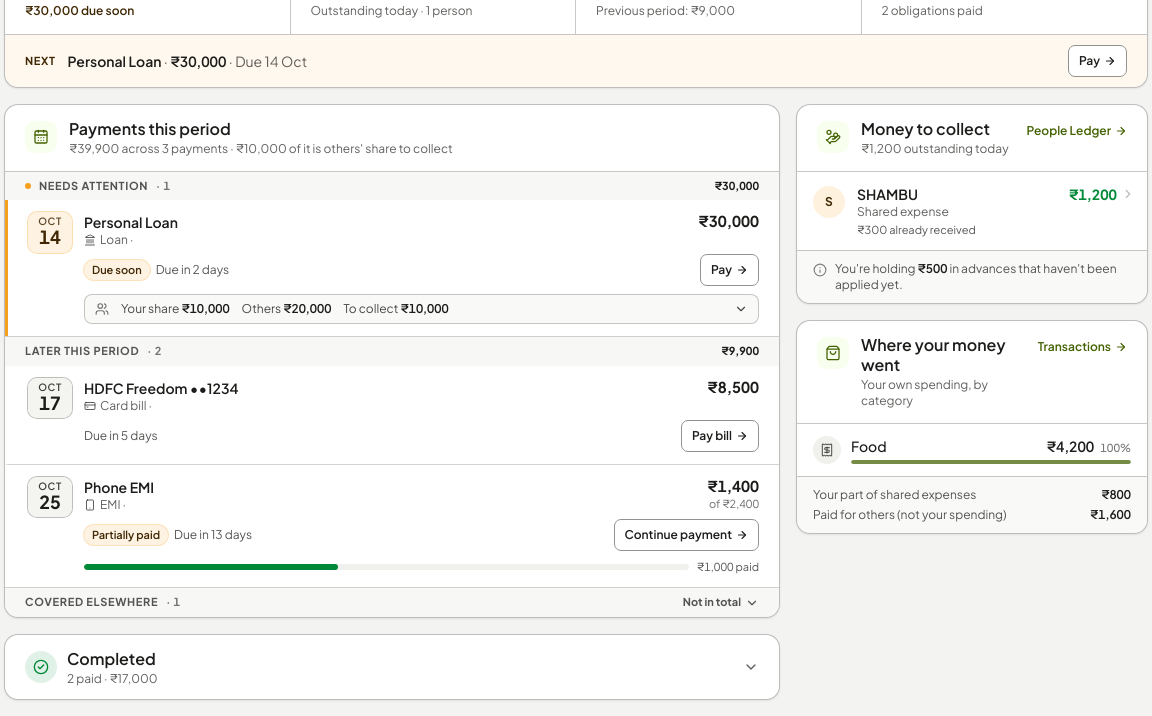
Test: MyMoneyWorkspace › groups payments by urgency and keeps items outside the total collapsed
The width and height of the screenshot is (1152, 716).
(page scrolled)
Expected: the heading "Needs attention · 1 ₹30,000" is shown, [5,172,779,200]
Expected: the heading "Later this period · 2 ₹9,900" is shown, [5,336,779,366]
Click the button "Covered elsewhere · 1 Not in total": (92, 602) [5,587,779,617]
(page scrolled)
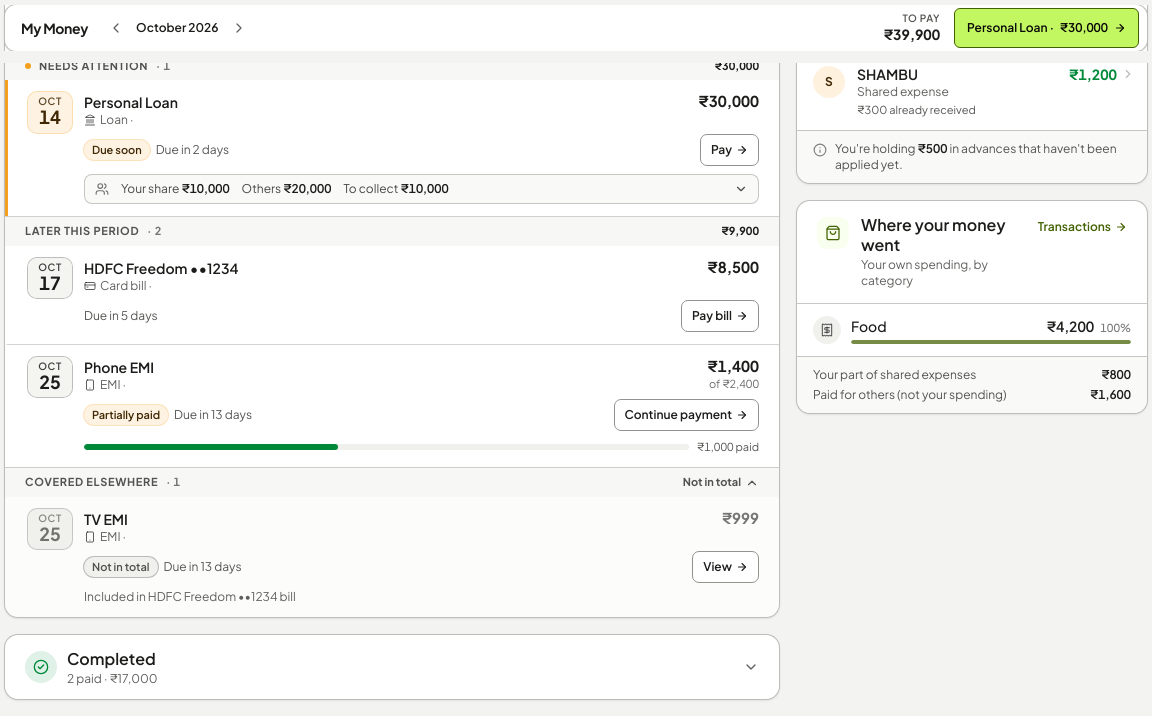
Result: the text "TV EMI" is shown at [84,509,128,529]
Result: the text "Included in HDFC Freedom ••1234 bill" is shown at [84,589,296,604]
